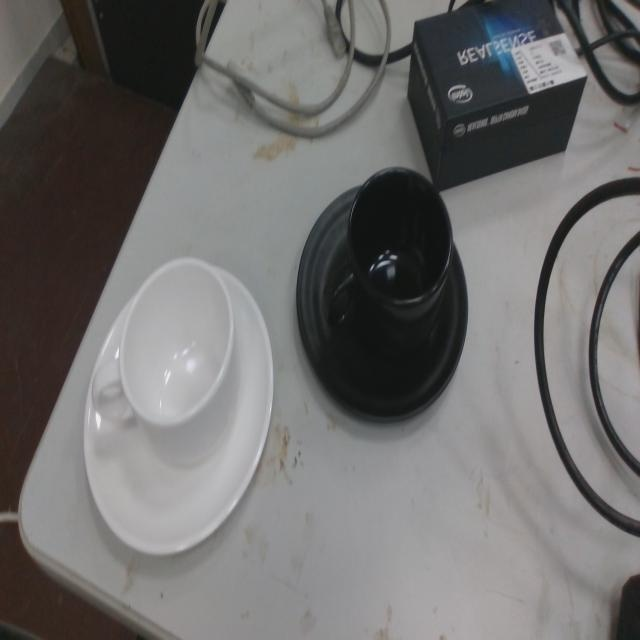black: (292, 162, 471, 426)
white: (81, 252, 277, 564)
